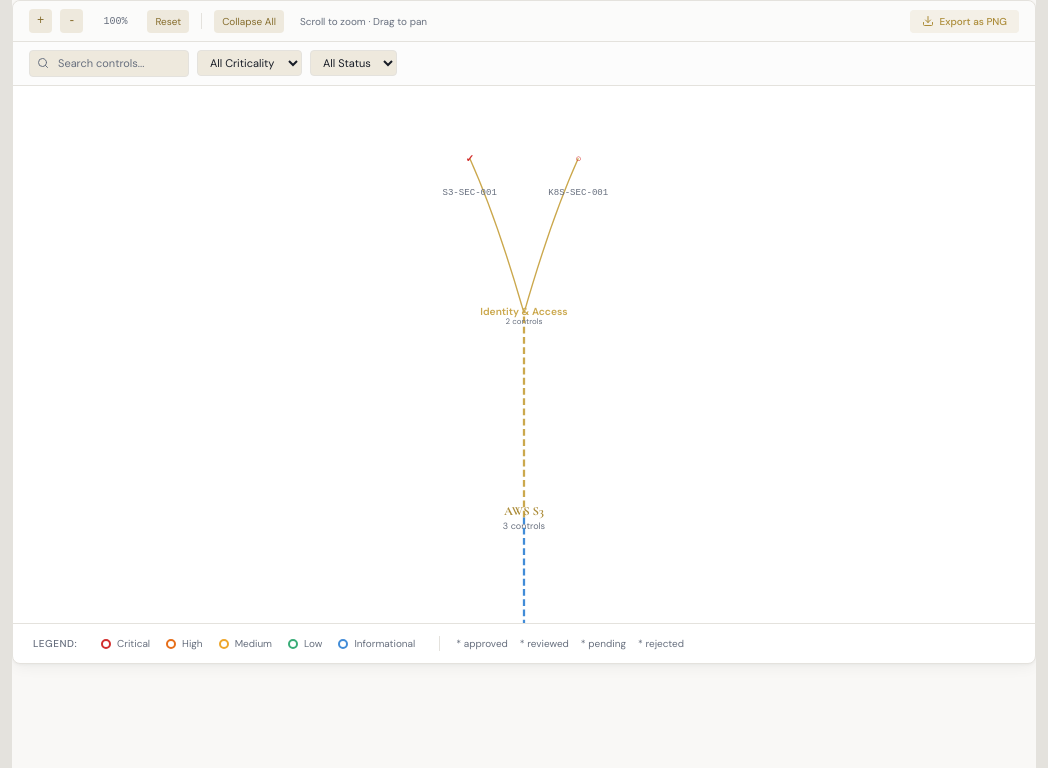
Test: BaselineMindMap integration › zoom out button updates the zoom percentage
Click the button named "Zoom out". click: (72, 21)
box: [60, 9, 83, 33]
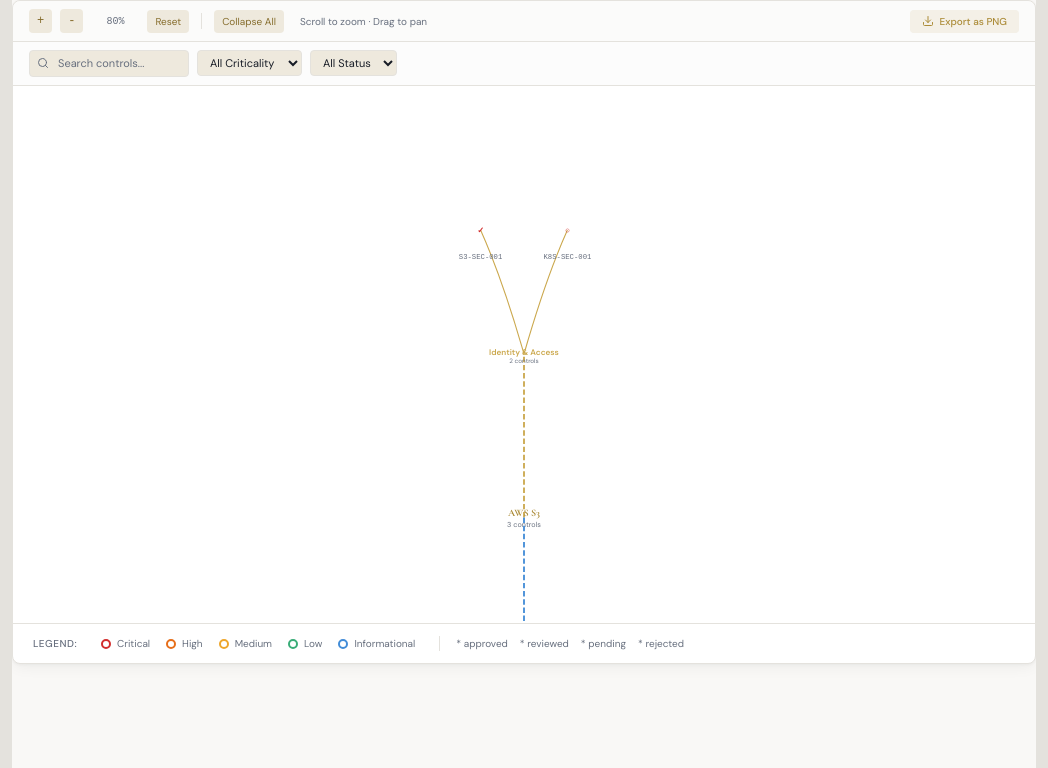
Expected: the text "80%" is shown, [106, 16, 124, 26]
